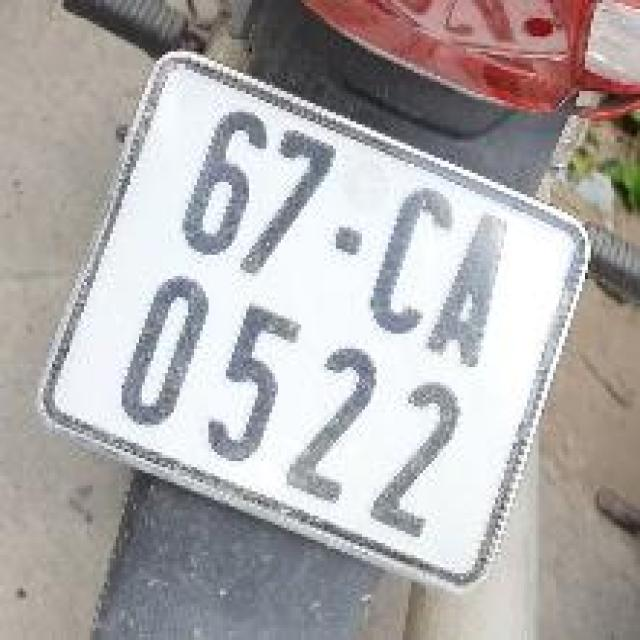0: (106, 259, 230, 444)
2: (271, 328, 411, 517), (355, 366, 487, 551)
5: (186, 291, 321, 478)
6: (169, 100, 287, 271)
7: (225, 120, 355, 289)
A: (409, 194, 537, 387)
C: (350, 175, 474, 353)
